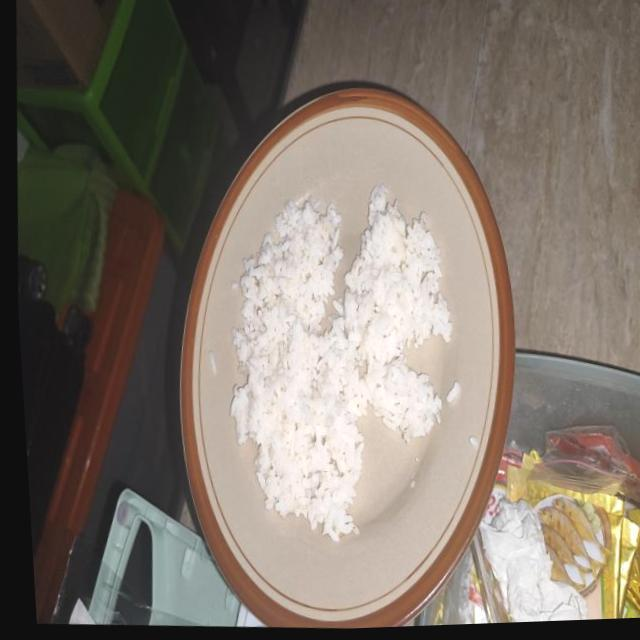nasi_putih: (230, 184, 452, 542)
